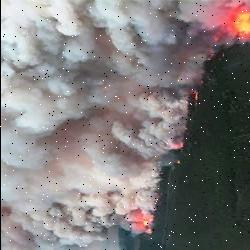fire: (158, 86, 198, 160), (214, 0, 250, 58), (127, 201, 152, 244)
